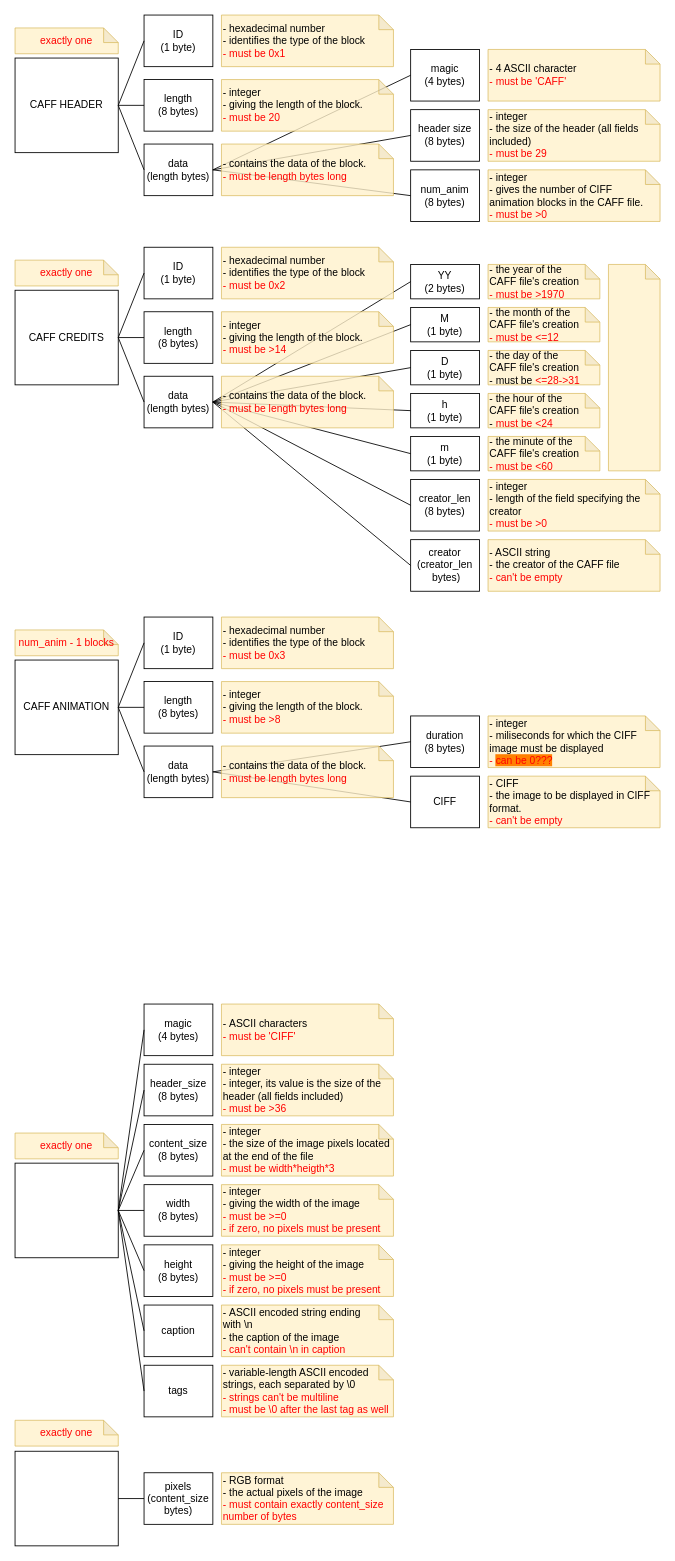
Image size: 675x1561. Some labels were removed from this diagram. The shapes that lost their labels are listed below. From the top down, each one's centre as x and y in pixels, then its label:
At (634,367): "The creation date and time can't be from the future".
At (66,1210): "CIFF HEADER".
At (66,1498): "CIFF CONTENT".
